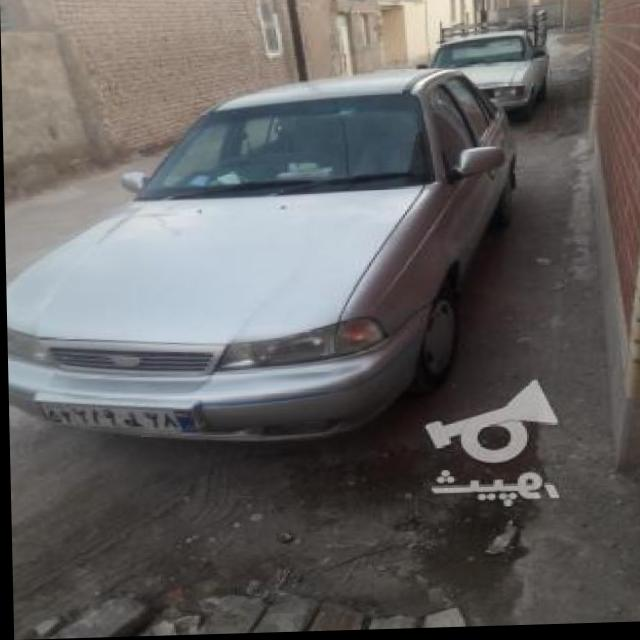licence: (48, 397, 201, 441)
